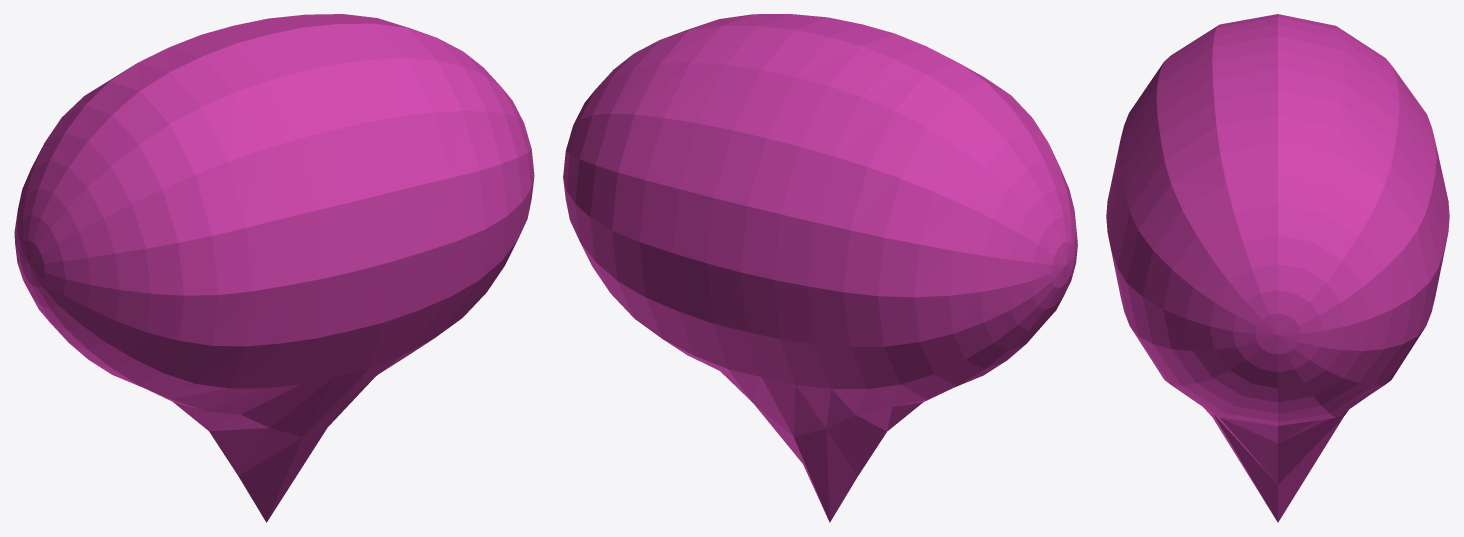
File: sbubble_round2.dae
3 renders of one model, left to right at view 1: azimuth 30°, elevation 25°; view 2: azimuth 150°, elevation 25°; view 3: azimuth 270°, elevation 25°, orthographic. The views are drawn at different scales.
Visible parts, largest first — view 1: Capsule01; view 2: Capsule01; view 3: Capsule01.
Boxes of the visible parts, <box> form: Capsule01: <box>14,14,534,522</box>; Capsule01: <box>563,14,1077,522</box>; Capsule01: <box>1106,14,1449,522</box>.
Bounding box in the file's own units: 2134 × 1341 × 2040.
